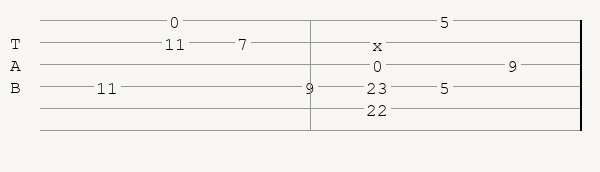0: (169, 13, 184, 28), (372, 57, 387, 72)
11: (96, 79, 122, 94), (164, 35, 190, 50)
22: (366, 101, 392, 116)
23: (366, 79, 392, 94)
5: (439, 13, 454, 28), (439, 79, 454, 94)
7: (237, 35, 252, 50)
9: (304, 79, 319, 94), (507, 57, 522, 72)
x: (372, 36, 387, 48)
